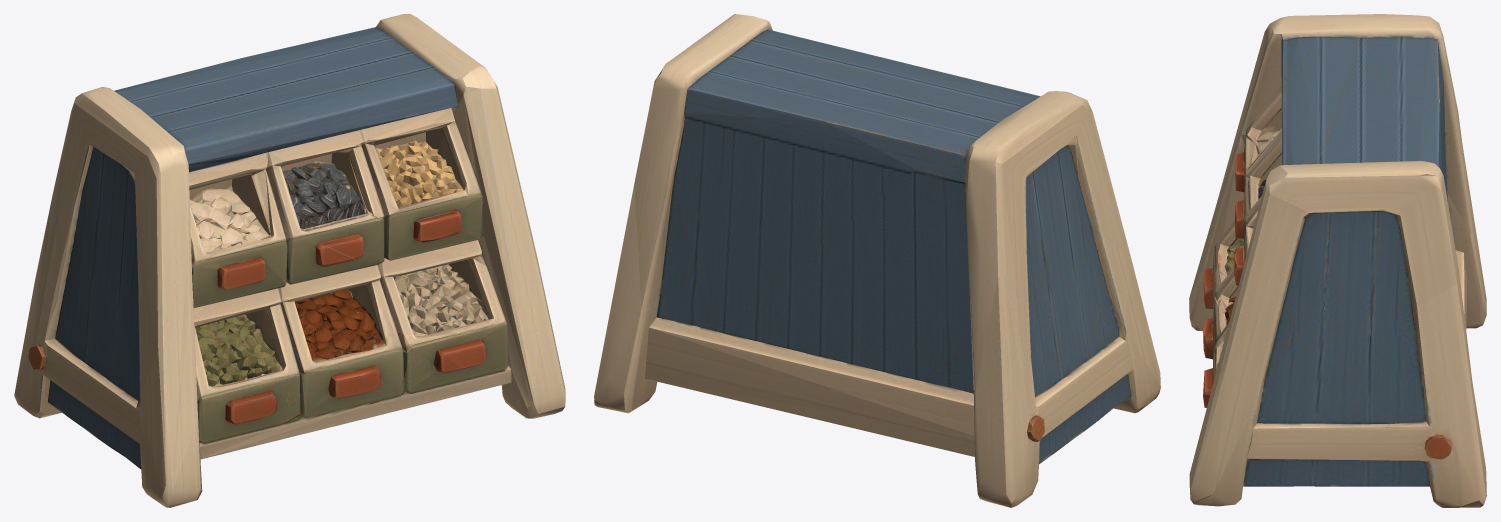
Rendered from seedCabinet.glb.
3 views of the same model, side by side, from view 1: azimuth 30°, elevation 25°; view 2: azimuth 150°, elevation 25°; view 3: azimuth 270°, elevation 25° (orthographic). The views are drawn at different scales.
Visible parts, largest first — view 1: Mesh_0; view 2: Mesh_0; view 3: Mesh_0.
Part boxes in pixels (<box>): Mesh_0: <box>14,14,565,507</box>; Mesh_0: <box>594,14,1160,507</box>; Mesh_0: <box>1189,14,1486,507</box>.
Size of the model in its own units: 1.35 by 1.01 by 0.85.
1 material, 1 textured.
